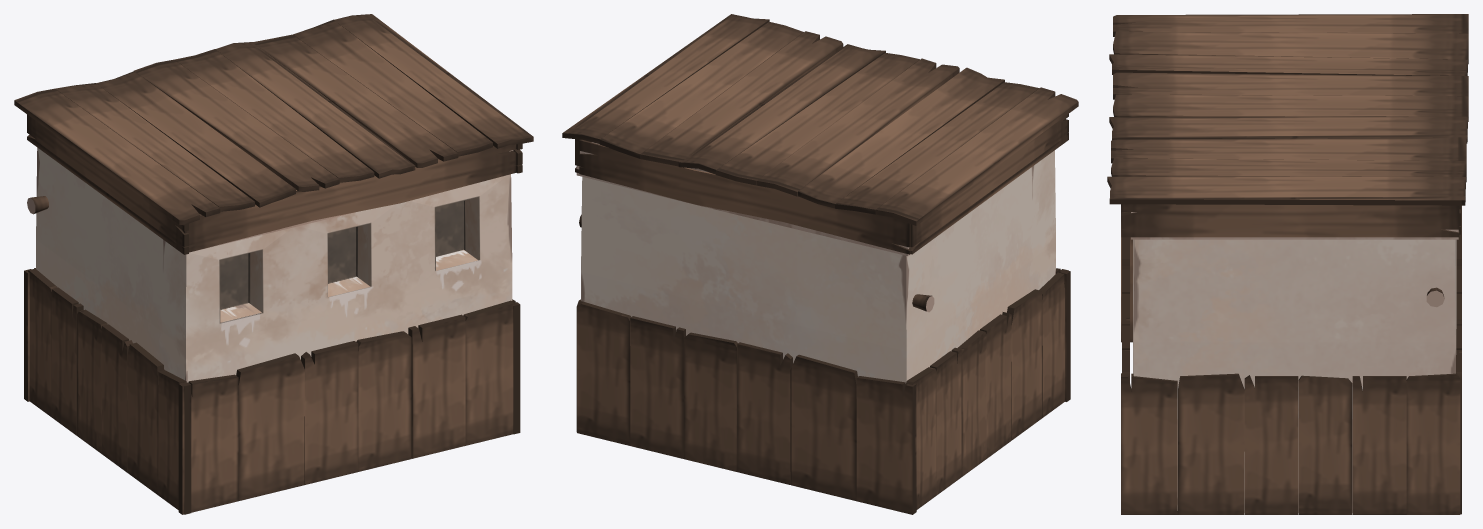
The model's file is Z3_Structure1_texturée.FBX.
3 views of the same model, side by side, from view 1: azimuth 30°, elevation 25°; view 2: azimuth 150°, elevation 25°; view 3: azimuth 270°, elevation 25° (orthographic). The views are drawn at different scales.
Parts seen in each view (by area): view 1: Z3_sturcture_1_Parts001, Z3_structure_002; view 2: Z3_sturcture_1_Parts001, Z3_structure_002; view 3: Z3_sturcture_1_Parts001, Z3_structure_002.
Part boxes in pixels (box(x1,y1,x2,y2)): Z3_sturcture_1_Parts001: box(14, 14, 533, 514); Z3_structure_002: box(36, 147, 513, 382); Z3_sturcture_1_Parts001: box(562, 14, 1078, 514); Z3_structure_002: box(576, 142, 1055, 383); Z3_sturcture_1_Parts001: box(1107, 14, 1468, 514); Z3_structure_002: box(1131, 212, 1458, 512).
Bounding box in the file's own units: 461 × 374 × 377.
Materials: 2 (2 with a texture image).
